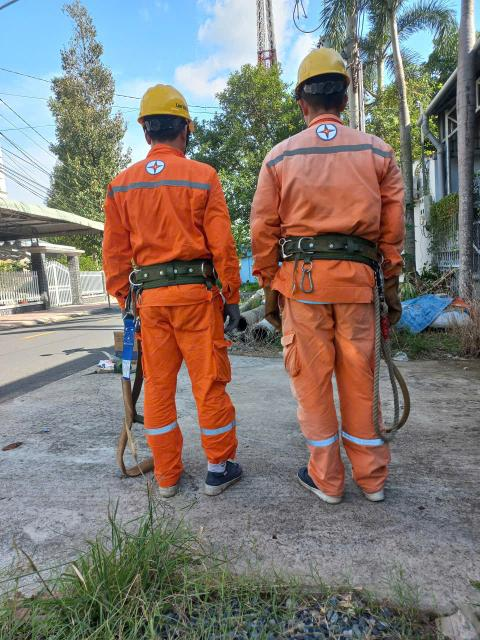gloves: (387, 270, 423, 347), (251, 279, 293, 343), (221, 293, 252, 342), (103, 296, 147, 322)
harness: (266, 218, 413, 288), (105, 253, 246, 289)
helmet: (135, 83, 198, 132), (293, 46, 348, 95)
shoes: (135, 436, 189, 511), (351, 433, 397, 521), (197, 442, 252, 511), (296, 452, 351, 502)
